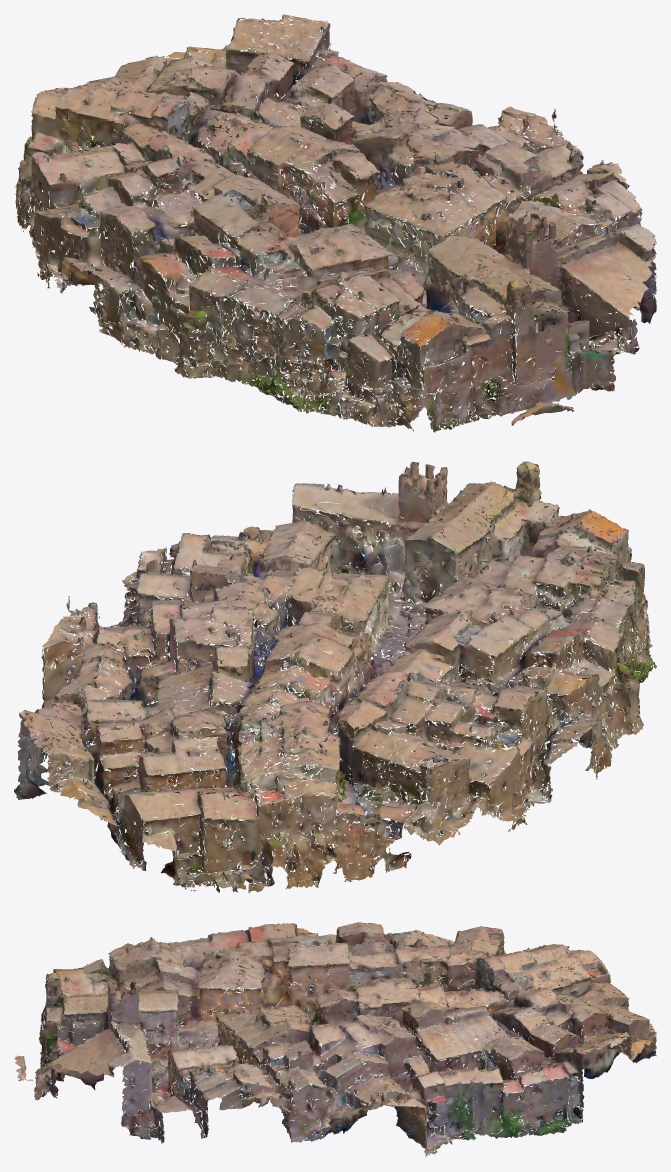
File: calcata_village.glb
The picture shows the model from 3 angles, top to bottom: view 1: azimuth 30°, elevation 25°; view 2: azimuth 150°, elevation 25°; view 3: azimuth 270°, elevation 25°; orthographic projection. The views are drawn at different scales.
Visible parts, largest first — view 1: calcata_village; view 2: calcata_village; view 3: calcata_village.
Boxes of the visible parts, bbox=[...] form: calcata_village: bbox=[14, 14, 656, 432]; calcata_village: bbox=[14, 461, 656, 893]; calcata_village: bbox=[14, 922, 656, 1157].
Size of the model in its own units: 114 by 30.68 by 168.
Materials: 1 (1 with a texture image).
